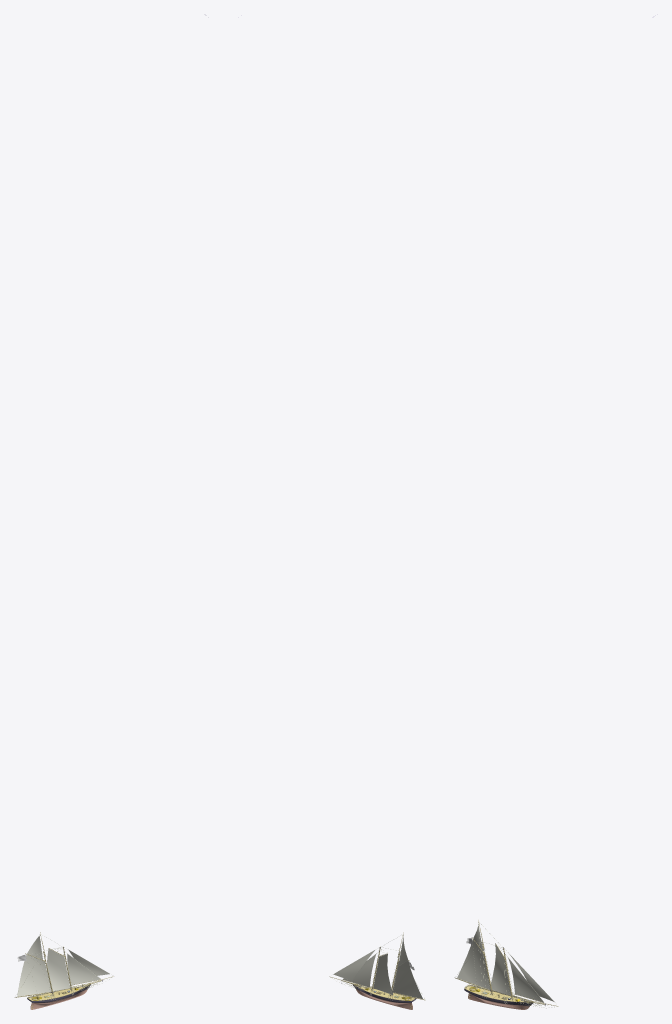
The model's file is america.fbx.
3 views of the same model, side by side, from view 1: azimuth 30°, elevation 25°; view 2: azimuth 150°, elevation 25°; view 3: azimuth 330°, elevation 25° (orthographic). The views are drawn at different scales.
Parts seen in each view (by area): view 1: gdVoile, voileMisaine, coque, foc; view 2: gdVoile, coque, voileMisaine; view 3: gdVoile, coque, voileMisaine, foc.
Part boxes in pixels (box(x1,y1,x2,y2)): gdVoile: box(17, 954, 51, 996); voileMisaine: box(47, 948, 70, 990); coque: box(27, 983, 90, 1009); foc: box(67, 954, 100, 984); gdVoile: box(392, 960, 422, 998); coque: box(353, 983, 416, 1009); voileMisaine: box(373, 954, 393, 994); gdVoile: box(457, 939, 490, 989); coque: box(464, 984, 532, 1009); voileMisaine: box(490, 944, 510, 995); foc: box(508, 958, 543, 1002).
Size of the model in its own units: 9413 by 45356 by 952.
